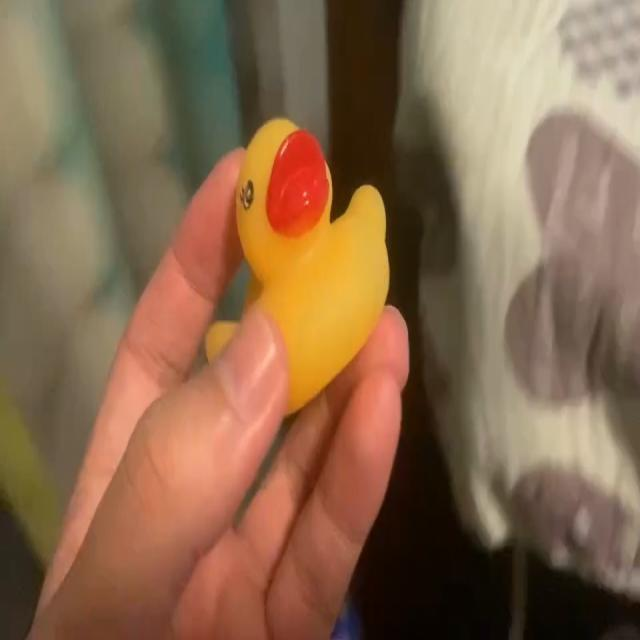rubber-duck: (236, 117, 387, 409)
